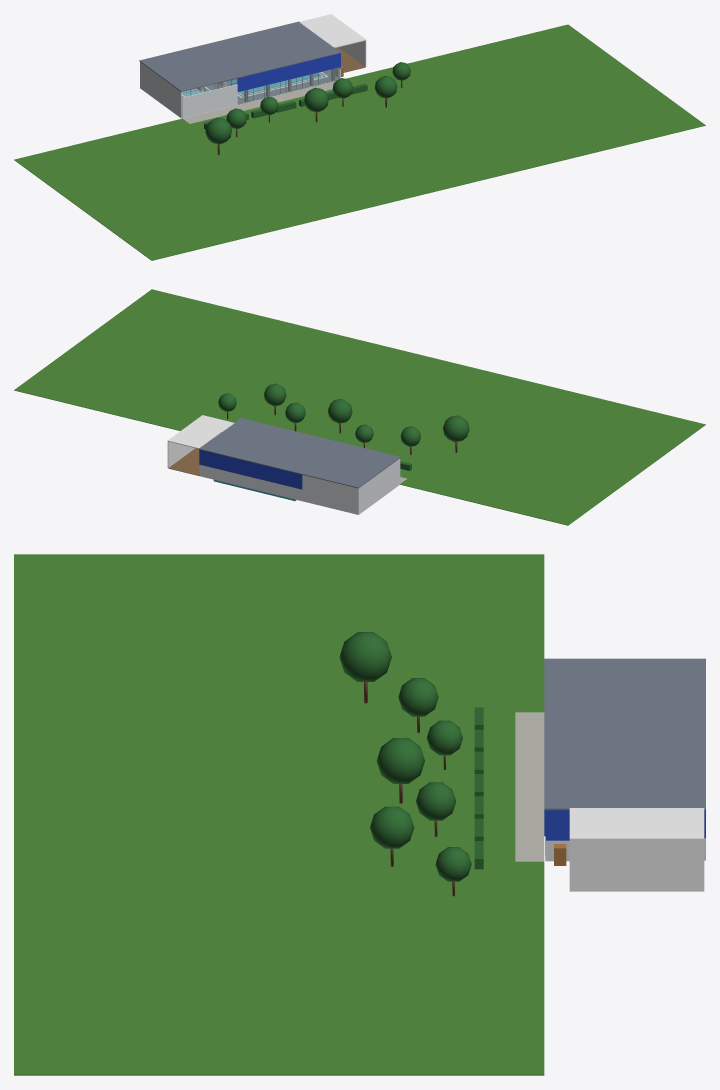
Rendered from piscina.glb.
The picture shows the model from 3 angles, top to bottom: view 1: azimuth 30°, elevation 25°; view 2: azimuth 150°, elevation 25°; view 3: azimuth 270°, elevation 25°; orthographic projection. The views are drawn at different scales.
Visible parts, largest first — view 1: Cesped, Techo, Muro azul jardin, Anexo — muro sur, Ventanal jardin — vidrio, Gimnasio — techo, Anexo — pared entrada, Terraza, Arbol — copa.005, Playa, Arbol — copa.002, Gimnasio — fondo (+1 smaller); view 2: Cesped, Techo, Muro azul puertas, Anexo — muro norte, Zocalo blanco puertas, Anexo — pared entrada, Gimnasio — techo, Arbol — copa.005, Gimnasio — suelo, Arbol — copa.002, Gimnasio — fondo, Arbol — copa.004; view 3: Cesped, Techo, Gimnasio — fondo, Terraza, Gimnasio — techo, Arbol — copa.005, Arbol — copa.002, Arbol — copa.004, Arbol — copa.003, Arbol — copa, Arbol — copa.001, Arbol — copa.006.
Boxes of the visible parts, x1=… form: Cesped: x1=14, y1=24, x2=705, y2=260; Techo: x1=139, y1=21, x2=341, y2=91; Muro azul jardin: x1=237, y1=53, x2=340, y2=91; Anexo — muro sur: x1=181, y1=84, x2=237, y2=118; Ventanal jardin — vidrio: x1=238, y1=67, x2=339, y2=103; Gimnasio — techo: x1=299, y1=14, x2=366, y2=47; Anexo — pared entrada: x1=140, y1=62, x2=181, y2=117; Terraza: x1=182, y1=81, x2=335, y2=123; Arbol — copa.005: x1=205, y1=117, x2=231, y2=144; Playa: x1=237, y1=76, x2=338, y2=104; Arbol — copa.002: x1=304, y1=87, x2=328, y2=112; Gimnasio — fondo: x1=339, y1=40, x2=366, y2=66; Cesped: x1=14, y1=289, x2=705, y2=525; Techo: x1=198, y1=418, x2=400, y2=488; Muro azul puertas: x1=199, y1=450, x2=302, y2=489; Anexo — muro norte: x1=302, y1=475, x2=358, y2=514; Zocalo blanco puertas: x1=199, y1=465, x2=302, y2=500; Anexo — pared entrada: x1=358, y1=458, x2=400, y2=514; Gimnasio — techo: x1=167, y1=415, x2=234, y2=448; Arbol — copa.005: x1=443, y1=415, x2=469, y2=442; Gimnasio — suelo: x1=168, y1=448, x2=199, y2=475; Arbol — copa.002: x1=328, y1=399, x2=352, y2=423; Gimnasio — fondo: x1=167, y1=441, x2=194, y2=467; Arbol — copa.004: x1=264, y1=383, x2=286, y2=406; Cesped: x1=14, y1=554, x2=544, y2=1075; Techo: x1=544, y1=658, x2=705, y2=810; Gimnasio — fondo: x1=569, y1=840, x2=704, y2=890; Terraza: x1=515, y1=712, x2=544, y2=861; Gimnasio — techo: x1=569, y1=808, x2=704, y2=839; Arbol — copa.005: x1=339, y1=632, x2=391, y2=681; Arbol — copa.002: x1=376, y1=738, x2=424, y2=783; Arbol — copa.004: x1=370, y1=806, x2=414, y2=848; Arbol — copa.003: x1=416, y1=782, x2=456, y2=820; Arbol — copa: x1=398, y1=678, x2=438, y2=716; Arbol — copa.001: x1=426, y1=720, x2=462, y2=755; Arbol — copa.006: x1=435, y1=847, x2=471, y2=881.
Bounding box in the file's own units: 140 × 10.41 × 78.7.
